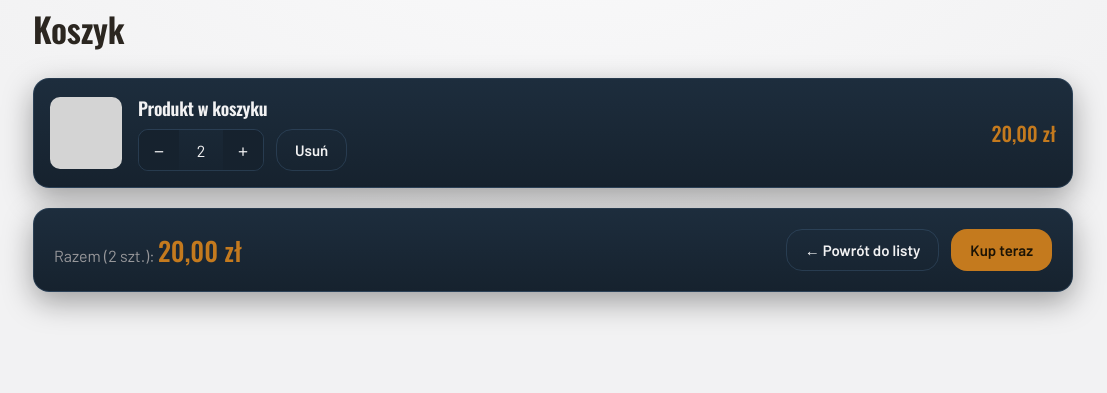
Test: CartPage › shows an error when checkout fails
Click the button "Kup teraz" at (1002, 250), box [951,229,1052,271]
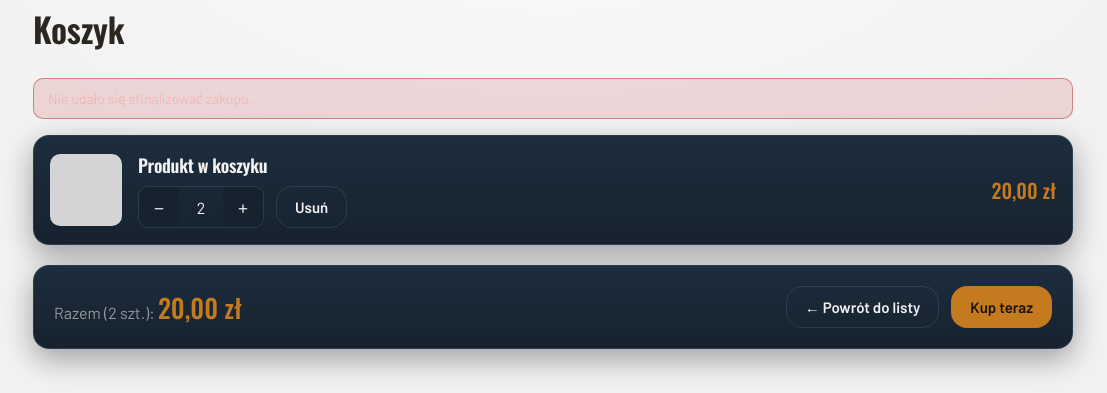
Expected: the text "Nie udało się sfinalizować zakupu." is shown, [33,78,1073,119]
